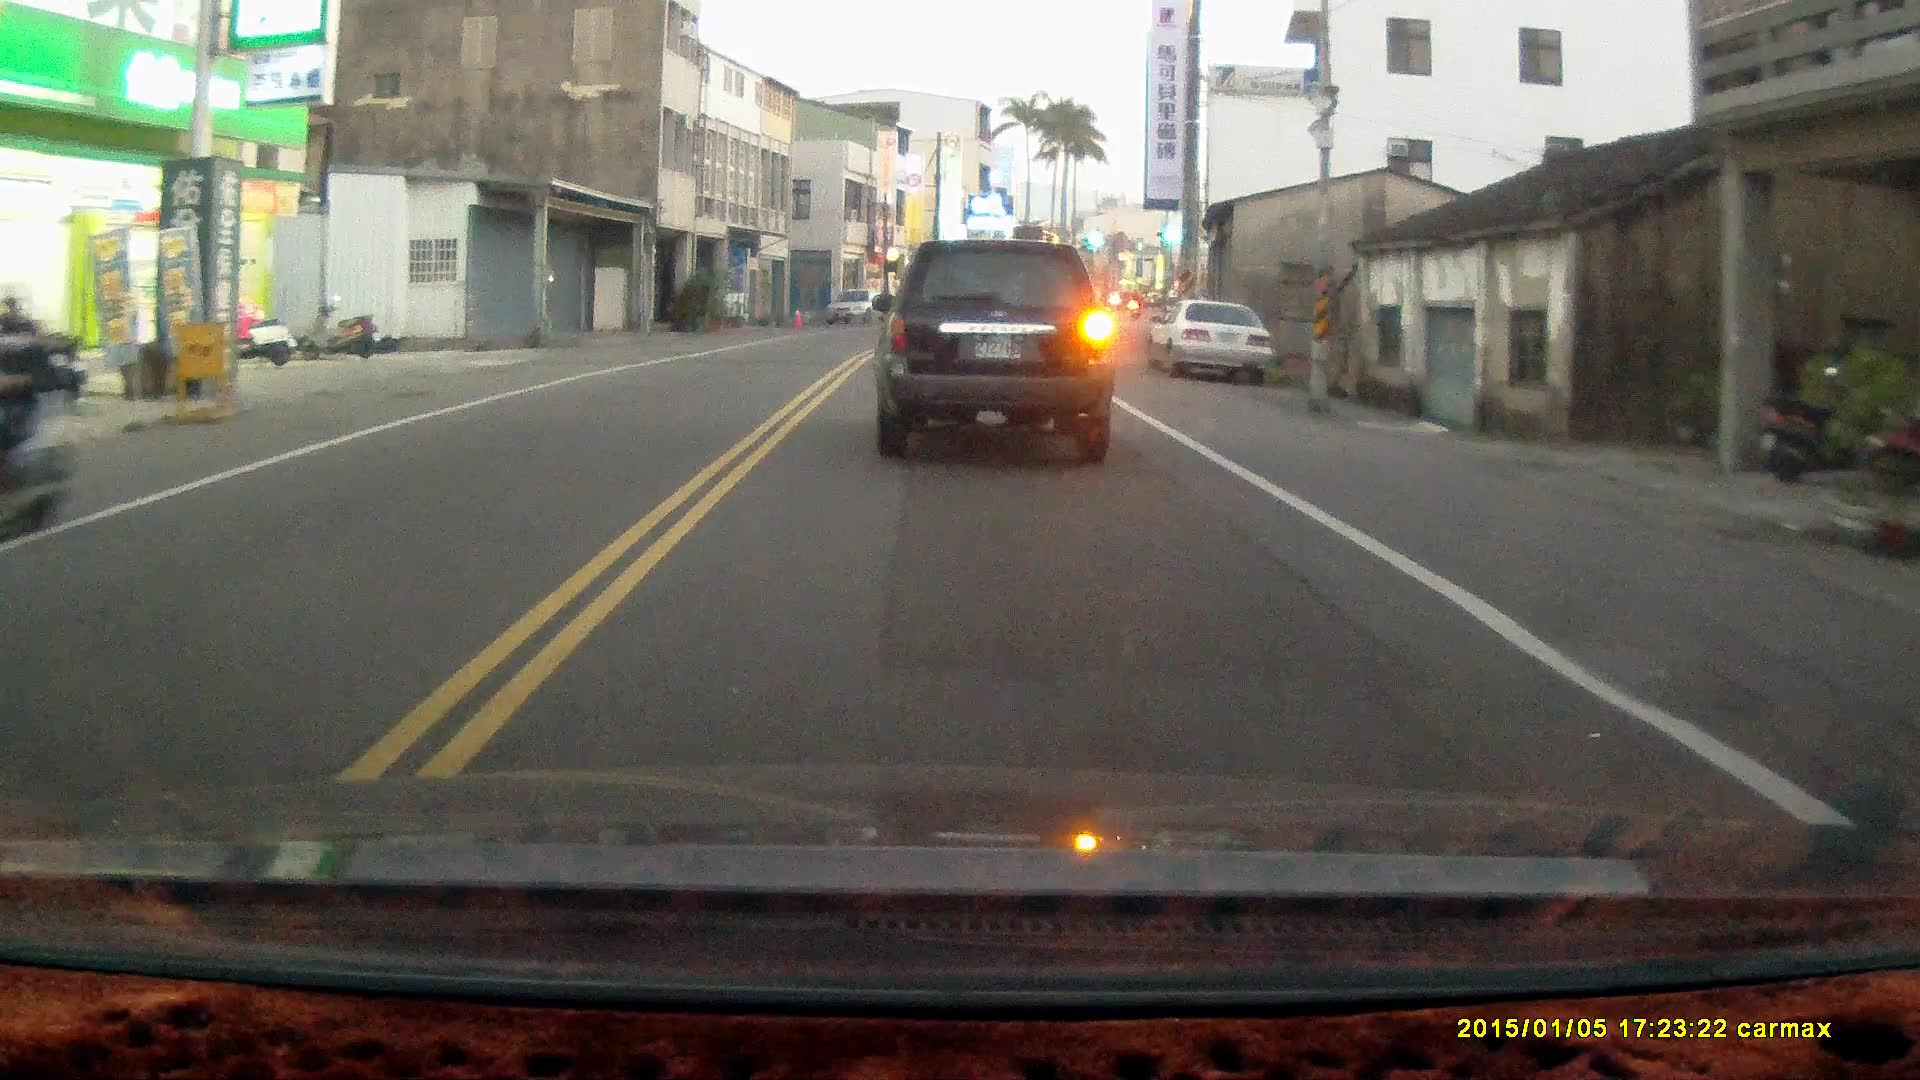rider: (0, 284, 83, 554)
vehicle: (875, 235, 1121, 465), (1152, 303, 1272, 387), (827, 293, 887, 336)
